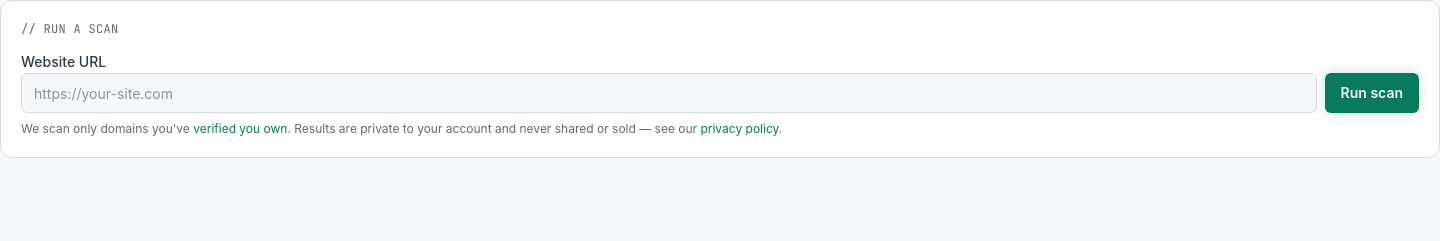
Scenario: RunScanForm › surfaces the real failure reason for a scan that ran and failed
The width and height of the screenshot is (1440, 241).
Type "https://example.com" into the field labelled "Website URL" at (669,93), box left=21, top=73, right=1317, bottom=113
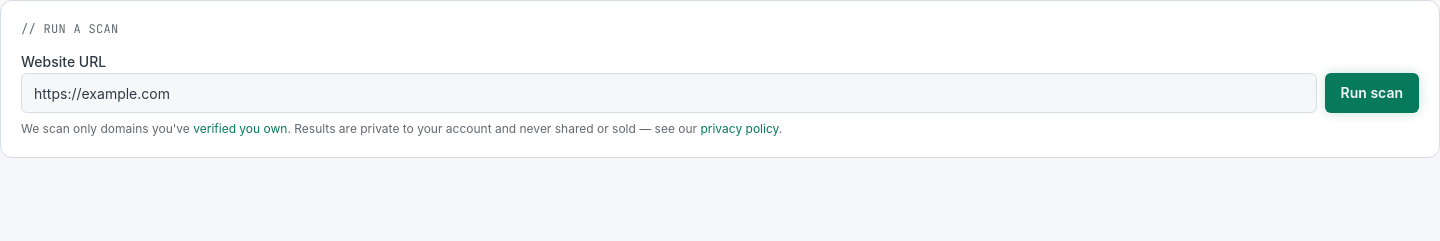
Click the button "Run scan" at (1372,93), box left=1325, top=73, right=1419, bottom=113
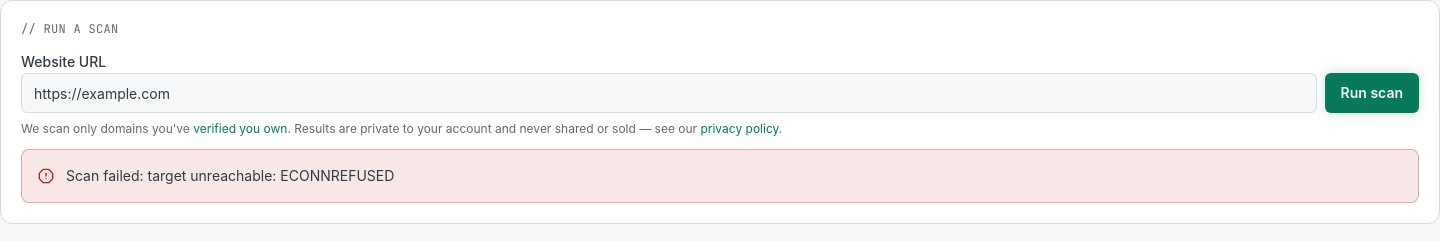
expect the message shows "target unreachable: ECONNREFUSED": met, box left=66, top=167, right=394, bottom=184
